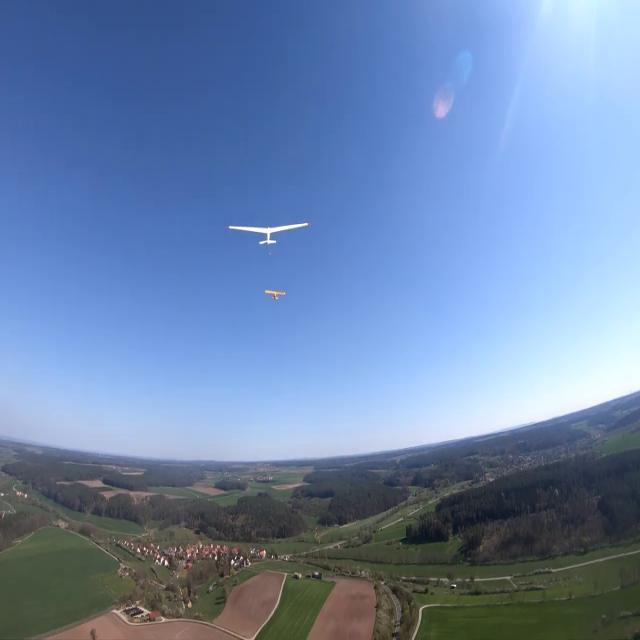iha: (259, 220, 279, 244), (263, 292, 287, 297)
